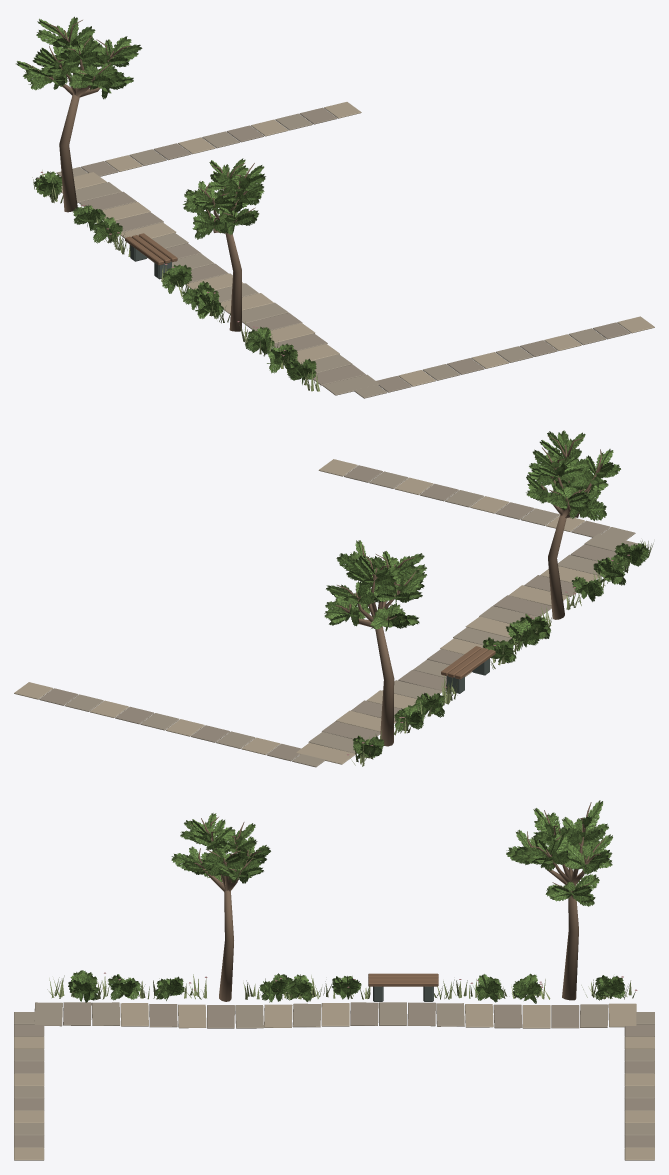
File: parcel-garden.glb
3 views of the same model, one above another, from view 1: azimuth 30°, elevation 25°; view 2: azimuth 150°, elevation 25°; view 3: azimuth 270°, elevation 25° (orthographic). The views are drawn at different scales.
Parts seen in each view (by area): view 1: Limestone walk and verge seat, Coastal planting; view 2: Limestone walk and verge seat, Coastal planting; view 3: Limestone walk and verge seat, Coastal planting.
Part boxes in pixels (<box>): Limestone walk and verge seat: <box>32,102,654,398</box>; Coastal planting: <box>16,16,316,384</box>; Limestone walk and verge seat: <box>14,459,653,767</box>; Coastal planting: <box>324,430,649,758</box>; Limestone walk and verge seat: <box>14,972,654,1160</box>; Coastal planting: <box>68,800,624,1003</box>.
Bounding box in the file's own units: 7.49 × 3.78 × 10.83.
9 materials, 1 textured.
